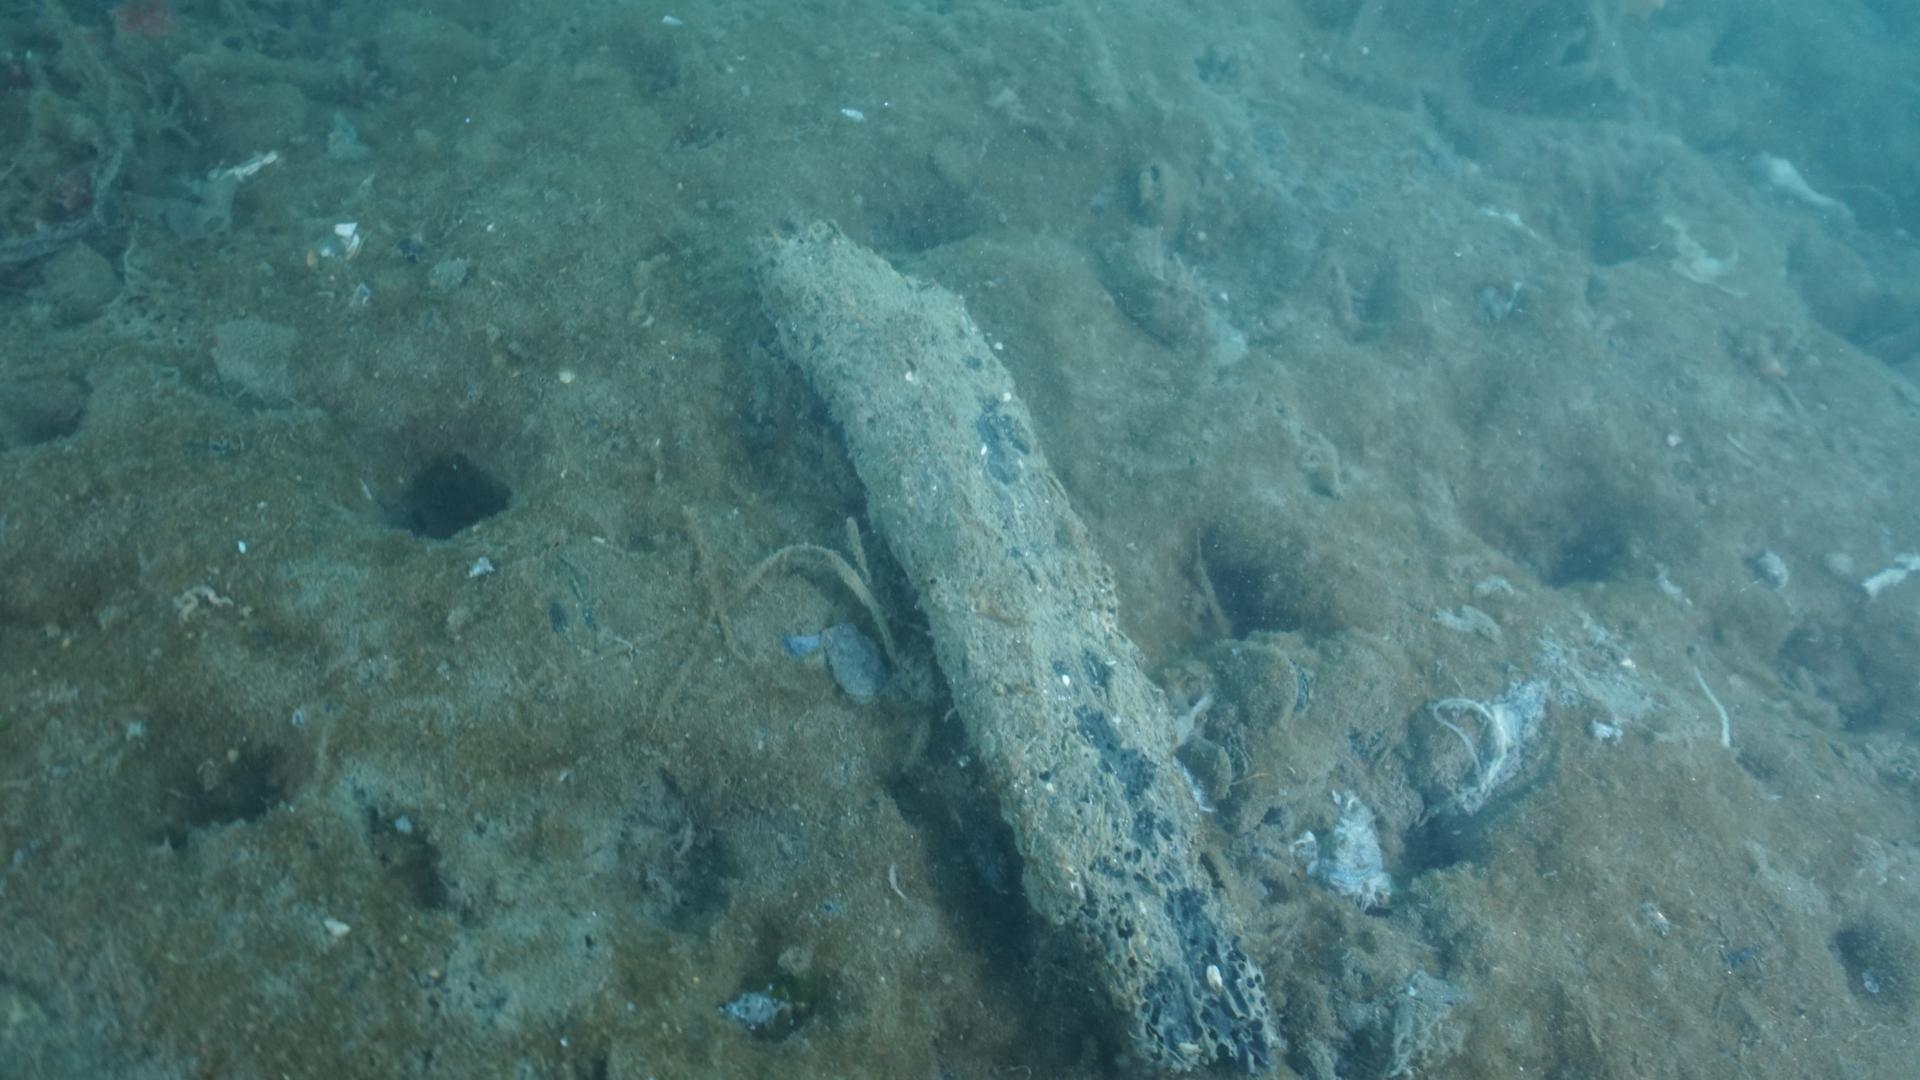wood: (746, 214, 1287, 1080)
